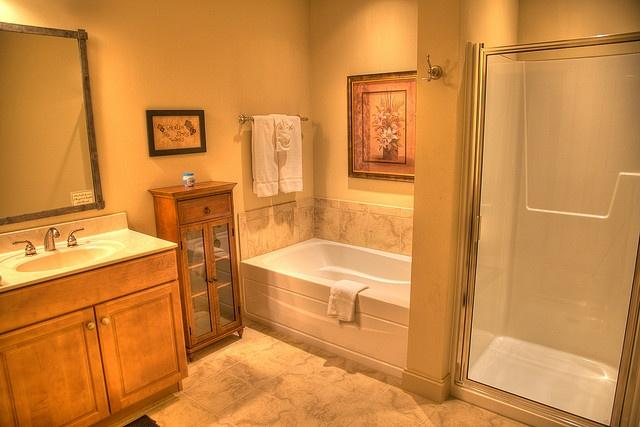Lemari: (172, 181, 243, 361)
